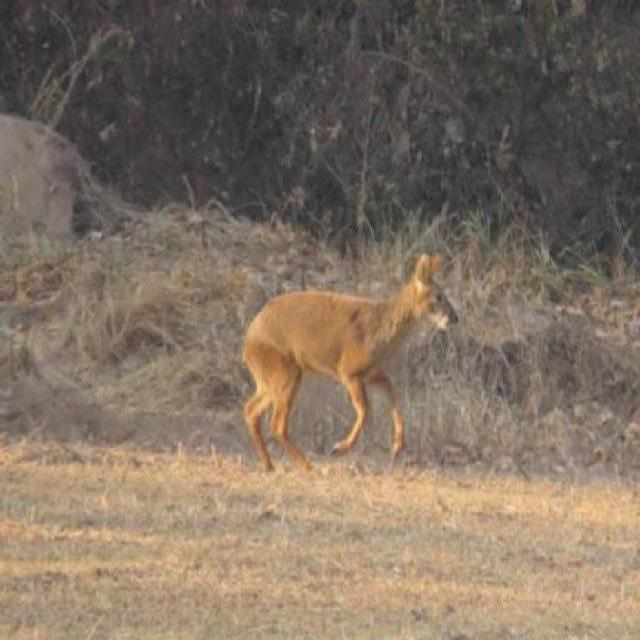deer: (218, 252, 464, 468)
